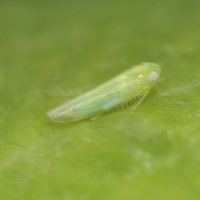insect: (47, 62, 160, 122)
